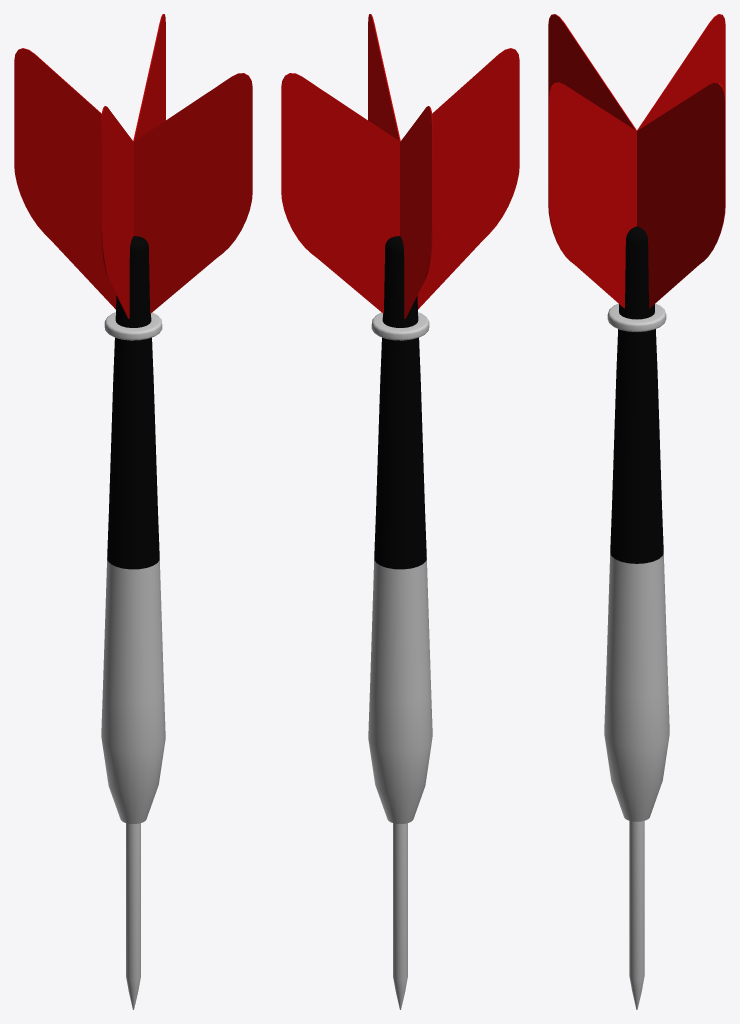
The model's file is red_dart.obj.
The picture shows the model from 3 angles, left to right: view 1: azimuth 30°, elevation 25°; view 2: azimuth 150°, elevation 25°; view 3: azimuth 270°, elevation 25°; orthographic projection.
Visible parts, largest first — view 1: red_dart; view 2: red_dart; view 3: red_dart.
Boxes of the visible parts, box(x1,y1,x2,y2) form: red_dart: box(14, 14, 252, 1009); red_dart: box(281, 14, 519, 1009); red_dart: box(548, 14, 725, 1009).
Size of the model in its own units: 0.0261 by 0.1561 by 0.0261.
